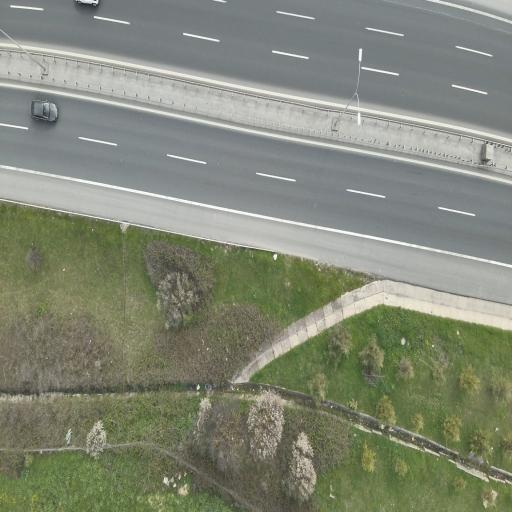car: (30, 100, 58, 122), (76, 0, 98, 6)
